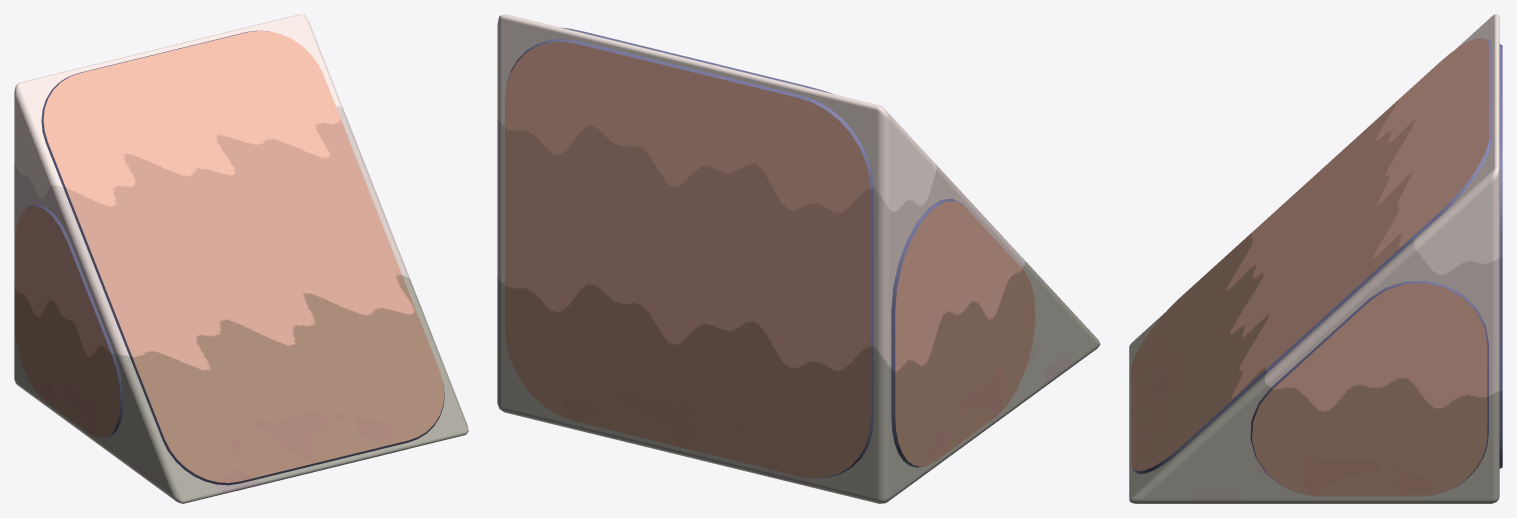
File: R4B_Wedge.glb
The picture shows the model from 3 angles, left to right: view 1: azimuth 30°, elevation 25°; view 2: azimuth 150°, elevation 25°; view 3: azimuth 270°, elevation 25°; orthographic projection. The views are drawn at different scales.
Parts seen in each view (by area): view 1: R4B_Wedge; view 2: R4B_Wedge; view 3: R4B_Wedge.
Boxes of the visible parts, <box> form: R4B_Wedge: <box>14,14,468,503</box>; R4B_Wedge: <box>497,14,1100,503</box>; R4B_Wedge: <box>1129,14,1502,503</box>.
Size of the model in its own units: 0.52 by 0.5042 by 0.5042.
3 materials, 3 textured.
